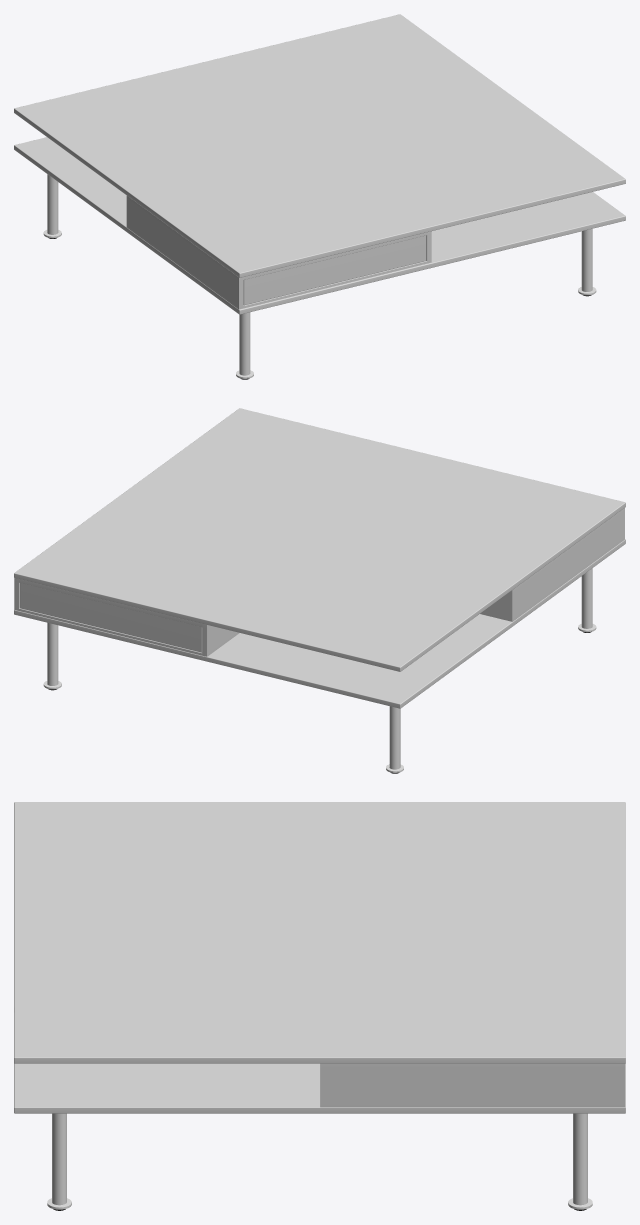
The model's file is Coffe_table_001(White).gltf.
3 renders of one model, top to bottom at view 1: azimuth 30°, elevation 25°; view 2: azimuth 150°, elevation 25°; view 3: azimuth 270°, elevation 25°, orthographic. The views are drawn at different scales.
Parts seen in each view (by area): view 1: CoffeTablle_001; view 2: CoffeTablle_001; view 3: CoffeTablle_001.
Boxes of the visible parts, box(x1,y1,x2,y2) form: CoffeTablle_001: box(14, 14, 625, 379); CoffeTablle_001: box(14, 408, 625, 773); CoffeTablle_001: box(14, 802, 625, 1210).
Size of the model in its own units: 0.9453 by 0.2852 by 0.956.
1 material, 1 textured.
